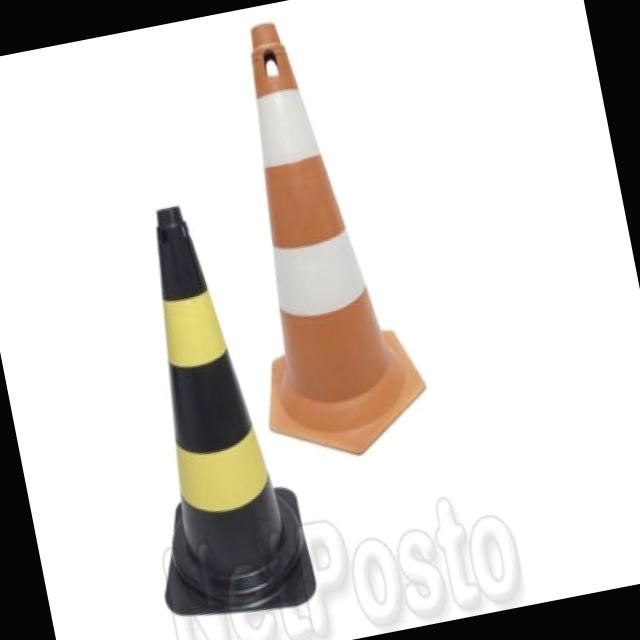cone: (202, 8, 434, 462)
